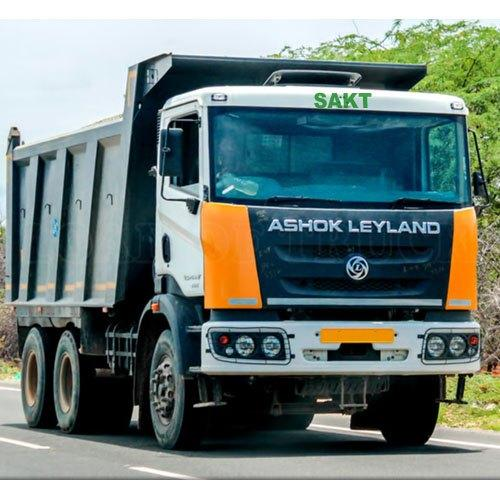truck: (4, 52, 482, 450)
